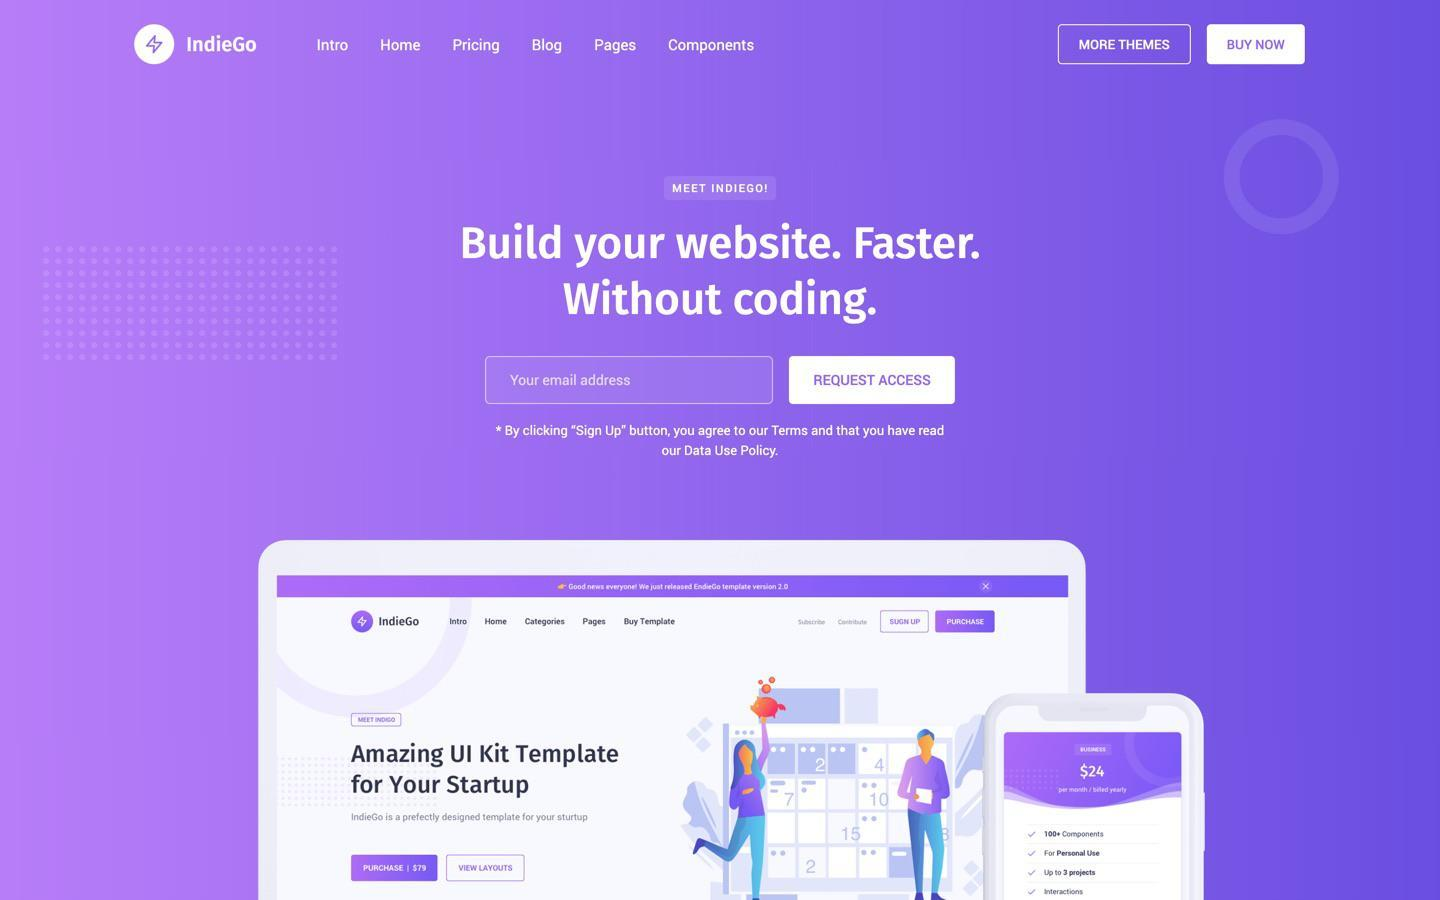button: (791, 358, 957, 405), (1058, 27, 1192, 64), (1208, 26, 1306, 65), (352, 855, 439, 883), (447, 856, 526, 883), (936, 611, 996, 634), (881, 611, 931, 634)
input: (486, 357, 774, 404)
